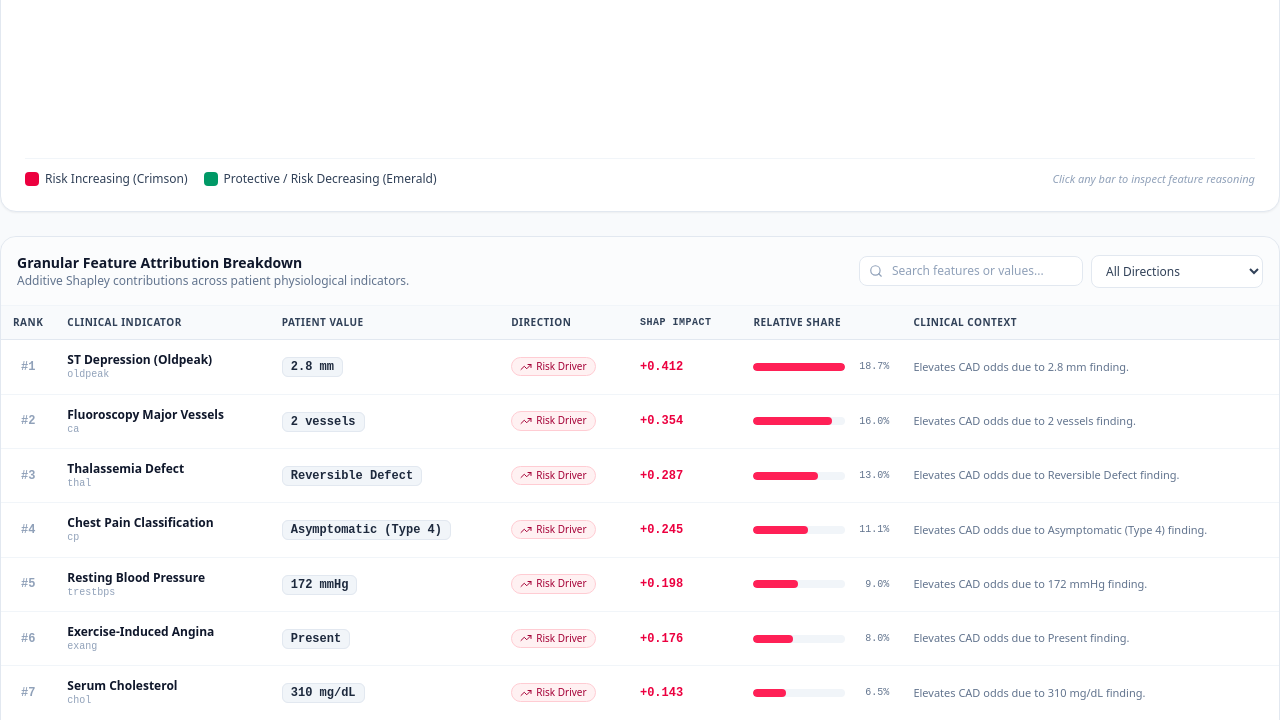
Test: ShapExplanationView Component › should display feature reasoning card when a table row is selected
(page scrolled)
# Click on ST Depression in table
Click the text "ST Depression (Oldpeak)" at {"x": 140, "y": 360}, box [67, 351, 212, 368]
(page scrolled)
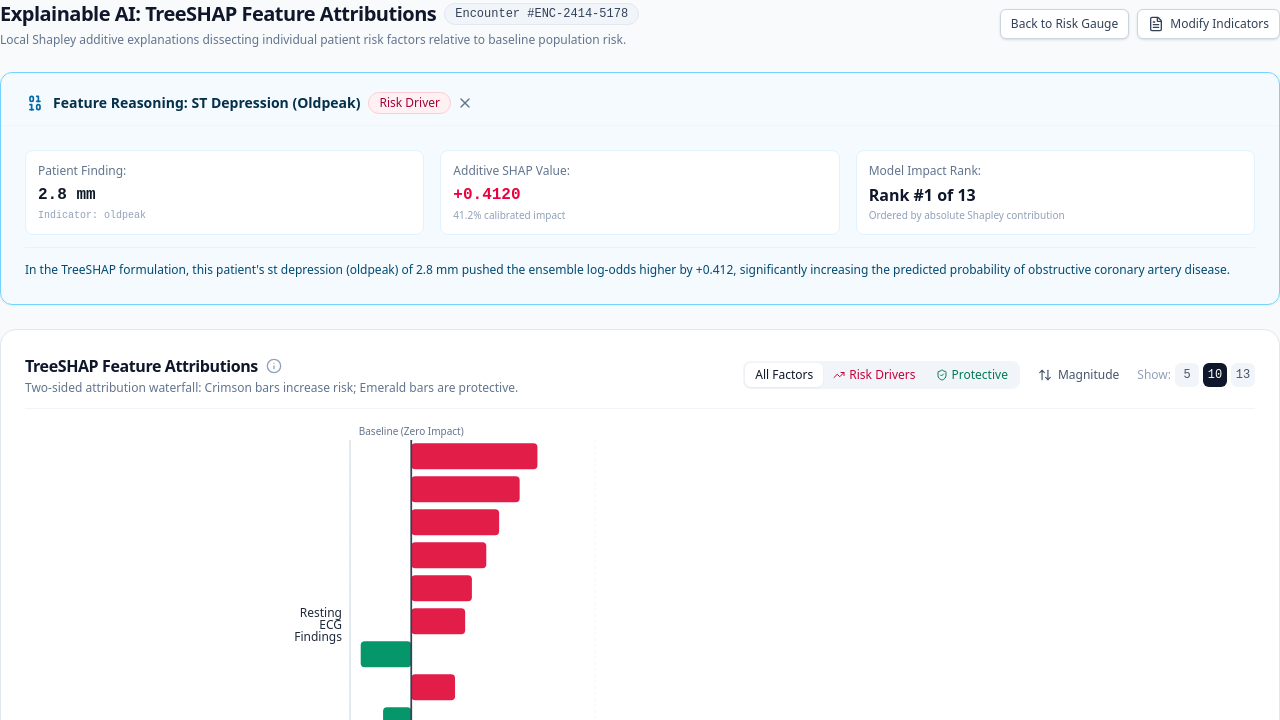
Check: the heading "Feature Reasoning: ST Depression (Oldpeak)" is shown, box [53, 93, 360, 113]
Check: the text "+0.4120" is shown, box [453, 186, 520, 204]
